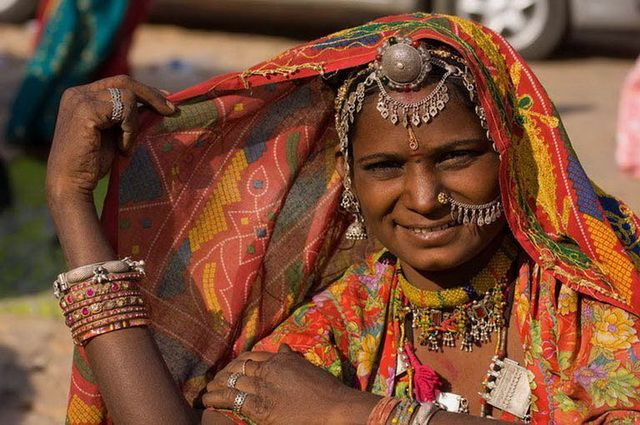without_mask: (346, 96, 501, 276)
